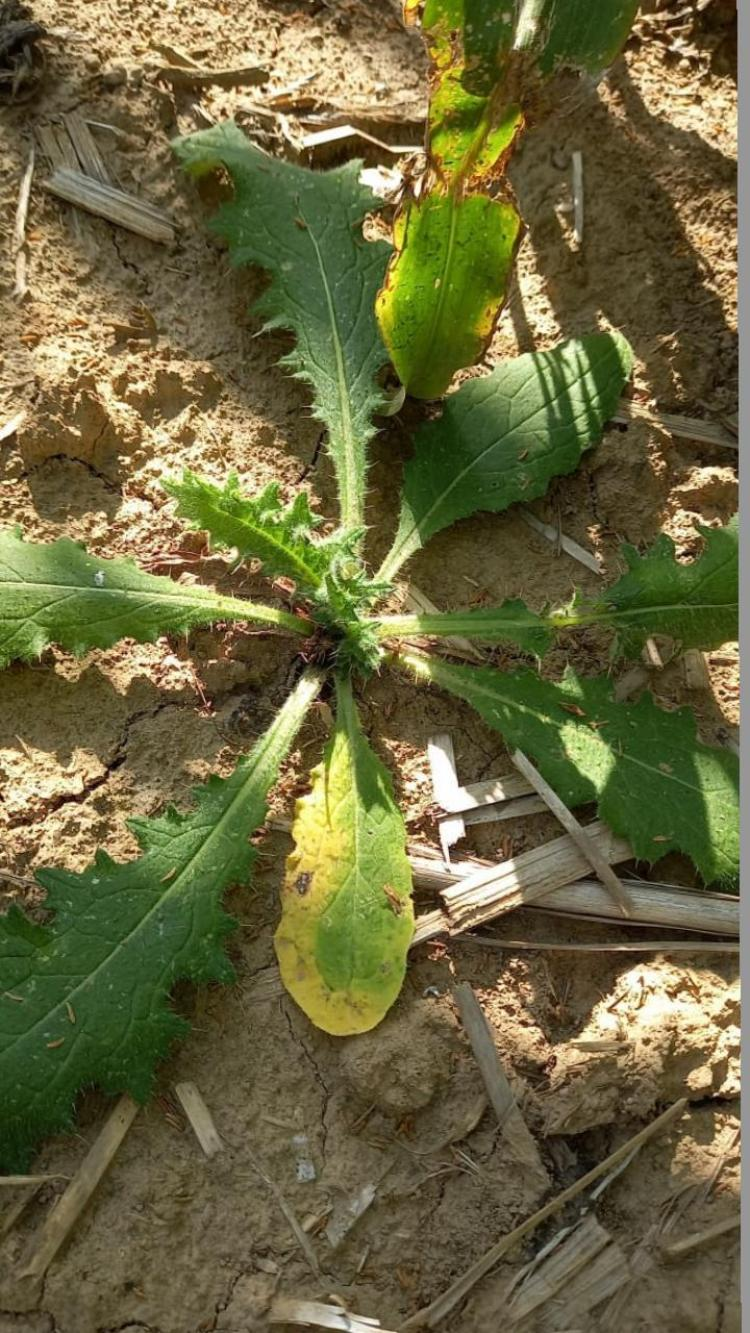osot: (0, 121, 750, 1185)
